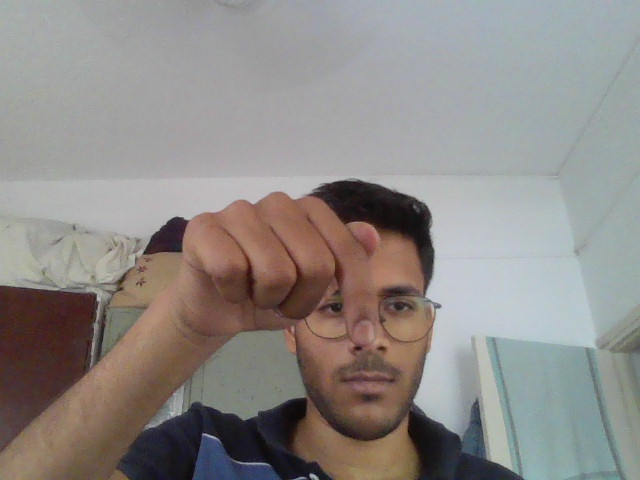yes: (165, 178, 425, 374)
